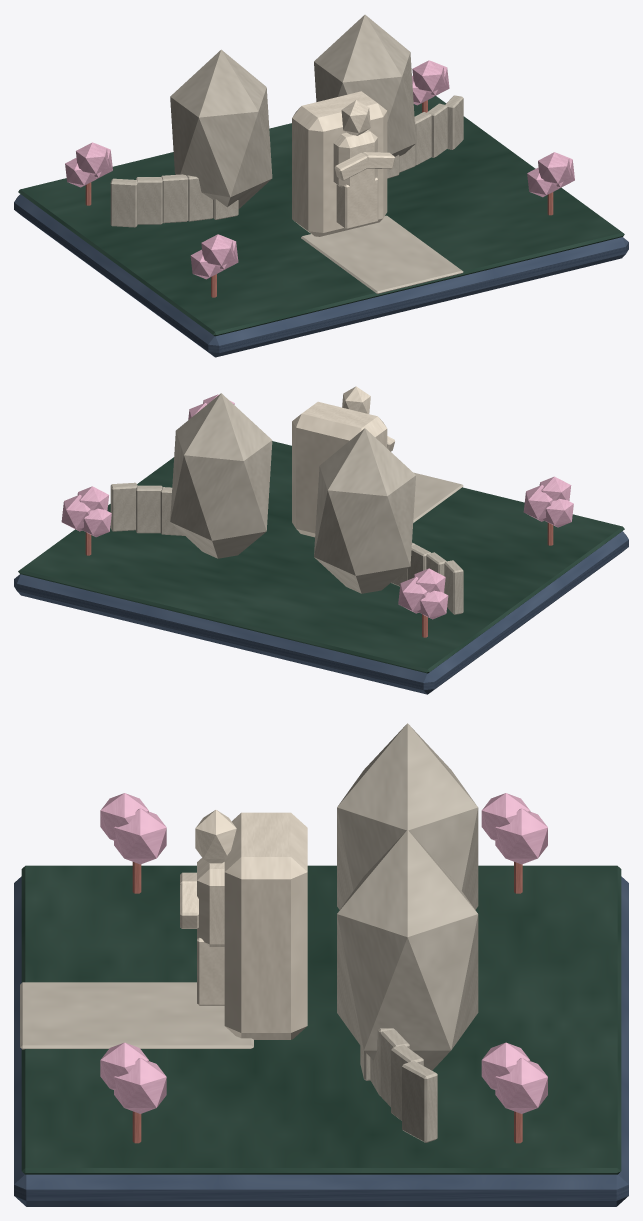
Rendered from mlk-memorial-diorama.glb.
3 renders of one model, top to bottom at view 1: azimuth 30°, elevation 25°; view 2: azimuth 150°, elevation 25°; view 3: azimuth 270°, elevation 25°, orthographic. The views are drawn at different scales.
Visible parts, largest first — view 1: mlk-memorial; view 2: mlk-memorial; view 3: mlk-memorial.
Part boxes in pixels (box(x1,y1,x2,y2)): mlk-memorial: box(14, 14, 628, 357); mlk-memorial: box(14, 386, 628, 694); mlk-memorial: box(14, 723, 628, 1206).
Size of the model in its own units: 12 by 5.02 by 10.
Materials: 1 (1 with a texture image).
